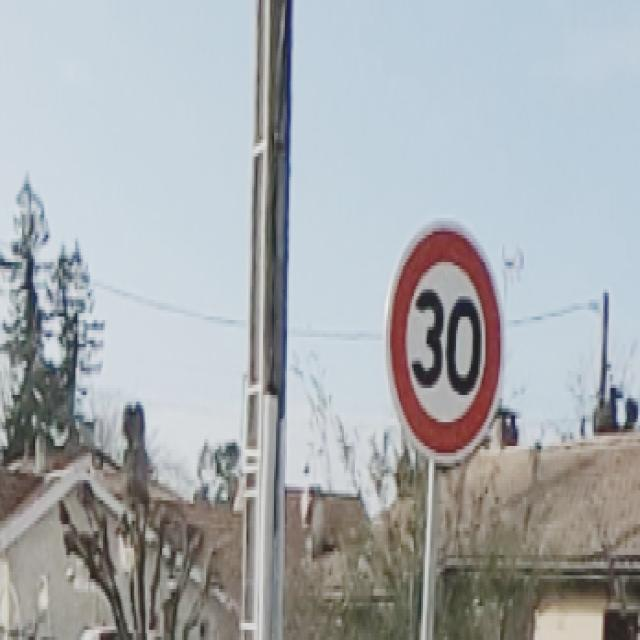speed_30: (384, 221, 502, 464)
